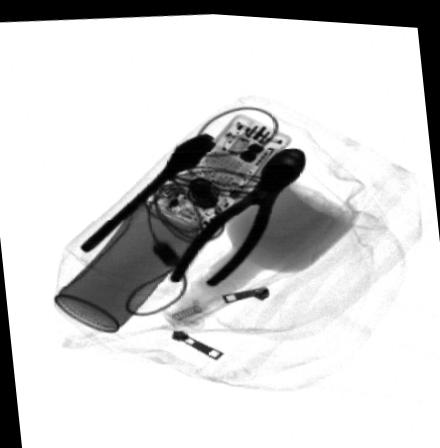Pliers: (169, 141, 307, 286)
Wrench: (75, 130, 220, 254)
